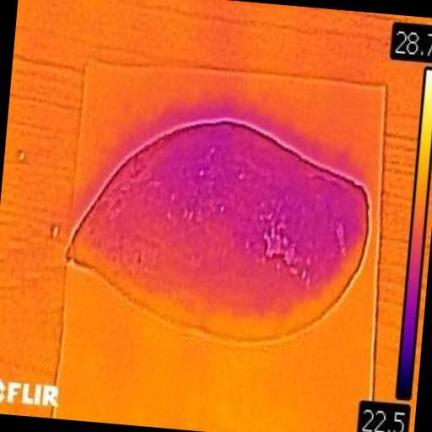mango: (70, 120, 368, 337)
